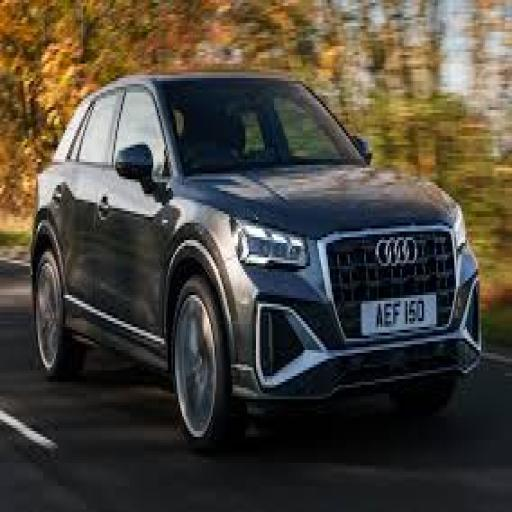car: (28, 62, 494, 448)
